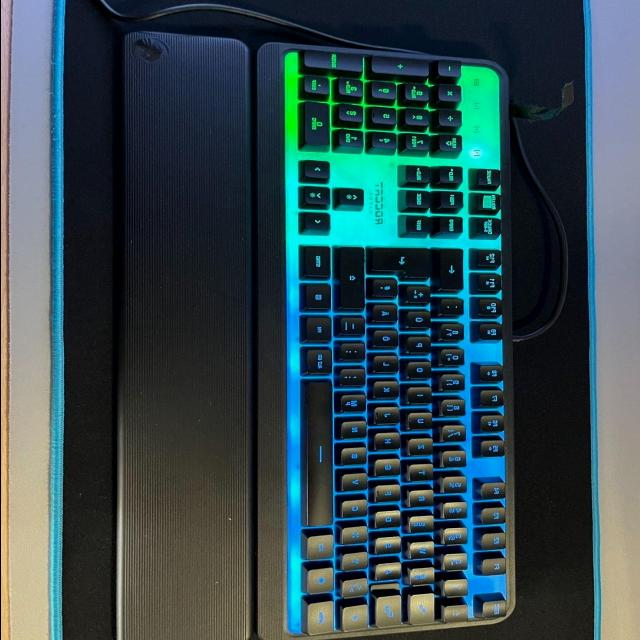0: (439, 349, 467, 369)
1: (446, 580, 470, 598)
2: (443, 554, 467, 572)
3: (444, 529, 470, 547)
4: (444, 503, 470, 521)
5: (443, 477, 469, 495)
6: (443, 451, 469, 469)
7: (442, 426, 468, 444)
8: (441, 400, 468, 419)
9: (441, 375, 467, 394)
a: (376, 564, 404, 583)
accent: (440, 300, 466, 318)
ae: (371, 305, 401, 325)
alt-left: (307, 535, 336, 563)
altgr-right: (305, 349, 335, 377)
b: (342, 448, 370, 468)
c: (342, 501, 370, 521)
caret: (446, 606, 470, 624)
comma: (341, 369, 369, 389)
d: (375, 512, 403, 531)
del: (439, 251, 465, 293)
e: (410, 517, 436, 535)
enter: (370, 249, 435, 281)
f: (376, 486, 403, 504)
g: (375, 460, 403, 480)
h: (376, 434, 403, 453)
hash: (372, 280, 400, 301)
i: (409, 388, 435, 407)
j: (375, 407, 403, 427)
k: (374, 382, 402, 402)
keyboard: (278, 41, 516, 640)
l: (375, 356, 402, 376)
less: (344, 580, 370, 601)
m: (340, 396, 369, 416)
minus: (339, 318, 368, 339)
n: (342, 422, 370, 442)
o: (408, 363, 434, 382)
oe: (373, 331, 401, 351)
p: (407, 337, 434, 356)
plus: (404, 287, 434, 307)
point: (340, 344, 368, 364)
q: (409, 568, 435, 587)
r: (410, 491, 436, 510)
s: (376, 538, 404, 556)
shift-left: (343, 606, 370, 635)
shift-lock: (376, 596, 403, 630)
shift-right: (340, 249, 368, 312)
space: (304, 381, 336, 530)
ss: (439, 325, 466, 344)
strg-left: (308, 602, 336, 638)
strg-right: (304, 247, 334, 281)
t: (410, 465, 436, 484)
tab: (411, 595, 437, 627)
u: (409, 414, 435, 433)
ue: (406, 312, 434, 332)
v: (343, 475, 371, 494)
w: (411, 542, 437, 561)
x: (342, 528, 370, 547)
y: (343, 554, 370, 574)
z: (410, 439, 436, 458)
